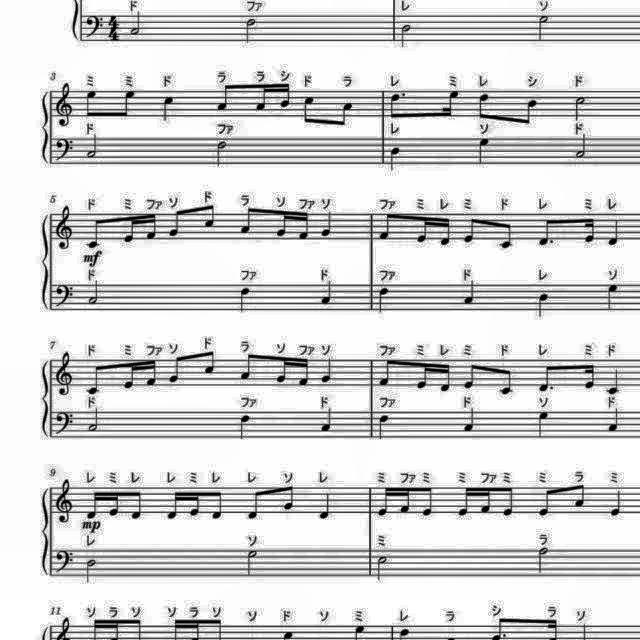Bass-clef: (54, 134, 78, 164), (54, 409, 78, 439), (54, 280, 78, 310), (54, 548, 78, 576), (85, 10, 106, 40)
Eighth-note: (84, 361, 106, 399), (518, 95, 542, 128), (85, 214, 106, 250), (115, 87, 137, 121), (244, 486, 264, 522), (335, 96, 357, 128), (212, 83, 234, 115), (298, 91, 318, 125), (534, 485, 554, 519), (538, 214, 558, 248), (209, 486, 227, 522), (475, 90, 495, 122), (496, 219, 516, 251), (496, 364, 516, 396), (236, 351, 256, 383), (538, 360, 558, 392), (463, 213, 482, 245), (386, 91, 406, 121), (235, 207, 255, 237), (419, 485, 436, 519), (167, 352, 185, 384), (462, 358, 480, 390), (167, 207, 185, 239), (130, 487, 146, 523), (375, 356, 393, 388), (375, 210, 393, 242), (84, 88, 102, 120), (499, 486, 516, 518), (279, 483, 297, 513), (201, 347, 219, 377), (201, 202, 219, 230), (569, 482, 587, 510)
Half-note: (240, 547, 260, 579), (532, 544, 552, 576), (532, 13, 552, 43), (212, 139, 232, 169), (396, 21, 414, 51), (83, 556, 101, 586), (374, 553, 392, 583), (85, 406, 103, 434), (128, 10, 146, 38), (571, 132, 589, 160), (241, 16, 259, 44), (84, 131, 100, 161), (86, 278, 102, 306), (572, 94, 588, 122)
Quarter-note: (605, 367, 625, 398), (316, 492, 334, 524), (476, 134, 494, 166), (160, 94, 180, 122), (316, 406, 336, 434), (607, 489, 625, 519), (317, 356, 335, 386), (534, 411, 552, 441), (237, 412, 255, 442), (237, 284, 255, 314), (375, 284, 393, 314), (459, 406, 478, 434), (604, 280, 620, 312), (461, 278, 479, 306), (317, 278, 335, 306), (604, 406, 622, 434), (386, 146, 404, 174), (318, 209, 334, 239), (534, 289, 550, 319), (606, 217, 622, 247), (376, 414, 392, 442)
Sixteenth-note: (162, 487, 182, 523), (441, 88, 463, 120), (436, 358, 454, 394), (438, 216, 456, 250), (294, 356, 312, 389), (121, 212, 139, 245), (119, 361, 137, 394), (294, 210, 312, 242), (415, 360, 433, 392), (414, 214, 432, 246), (252, 83, 270, 115), (455, 486, 473, 518), (85, 488, 103, 520), (376, 485, 392, 519), (188, 486, 204, 520), (277, 80, 295, 110), (274, 209, 292, 239), (144, 358, 160, 390), (399, 484, 415, 516), (106, 488, 122, 520), (144, 210, 160, 242), (478, 485, 494, 515), (274, 355, 290, 385), (582, 360, 598, 390), (582, 214, 598, 244)
Treble-clef: (54, 203, 78, 253), (54, 348, 78, 398), (54, 477, 78, 527), (54, 81, 78, 130)
